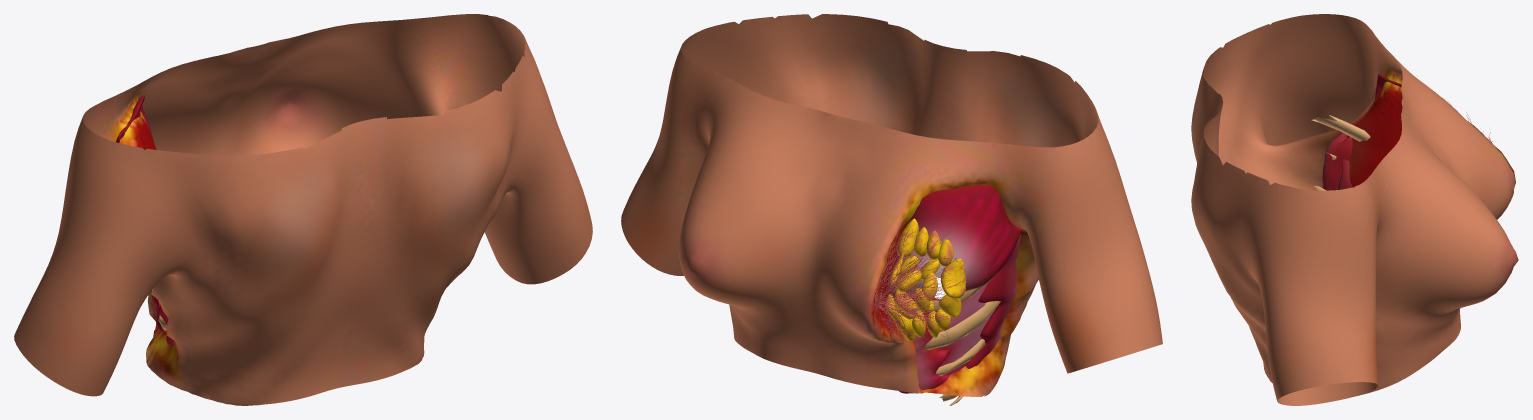
The model's file is mama_caso_007.glb.
3 renders of one model, left to right at view 1: azimuth 30°, elevation 25°; view 2: azimuth 150°, elevation 25°; view 3: azimuth 270°, elevation 25°, orthographic. The views are drawn at different scales.
Visible parts, largest first — view 1: Body, Muscles; view 2: Body, Muscles, Glands, Ducts; view 3: Body, Muscles.
Boxes of the visible parts, bbox=[...] form: Body: bbox=[14, 14, 592, 405]; Muscles: bbox=[116, 95, 175, 345]; Body: bbox=[621, 14, 1162, 396]; Muscles: bbox=[887, 184, 1021, 405]; Glands: bbox=[885, 218, 965, 341]; Ducts: bbox=[873, 219, 969, 343]; Body: bbox=[1191, 14, 1518, 405]; Muscles: bbox=[1311, 74, 1401, 190].
Size of the model in its own units: 0.5294 by 0.2828 by 0.3122.
Materials: 5 (3 with a texture image).
